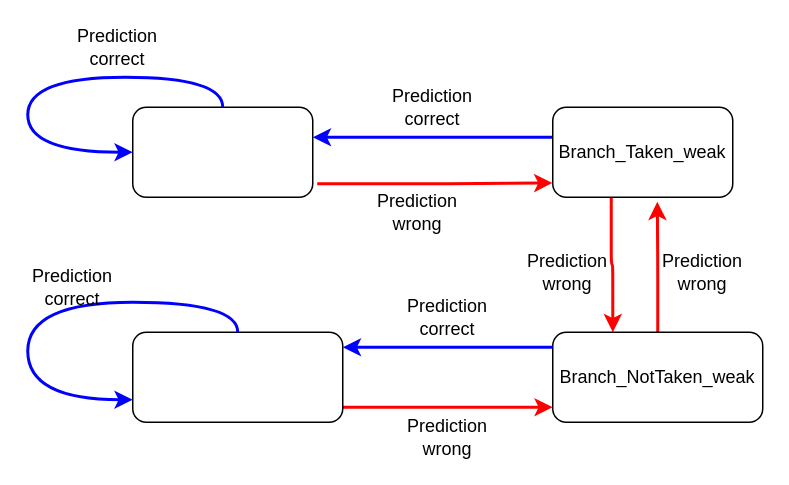
Some shapes in this 789 by 485 pixel diagram are drawn without their labels. Here are the shapes that lost their labels. From the top down, the centre of each, then its label:
At pixel 222 151: "Branch_Taken_strong".
At pixel 237 376: "Branch_NotTaken_strong".
